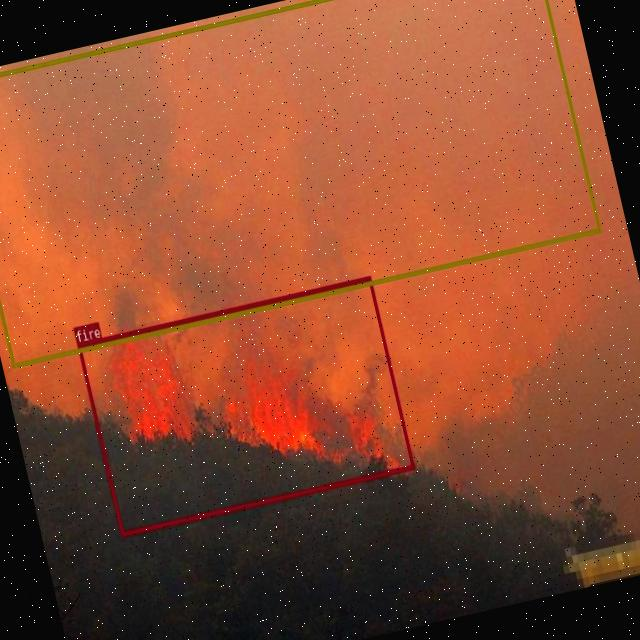fire: (76, 274, 414, 536)
smoke: (0, 0, 600, 367)
